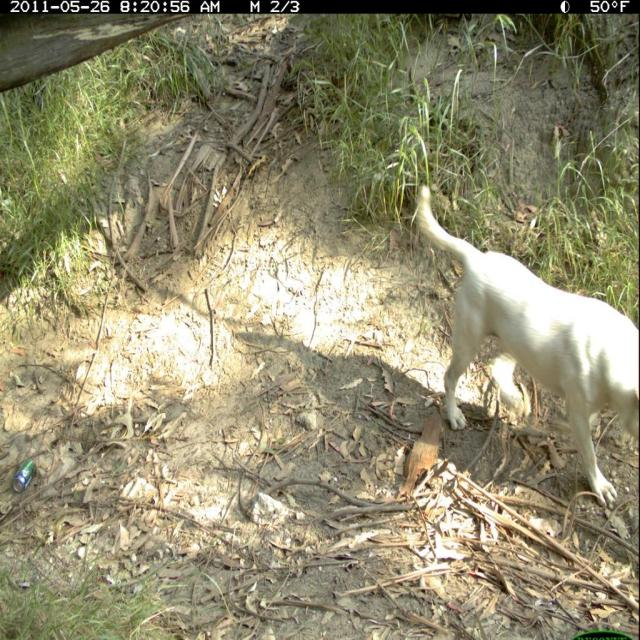dog: (413, 170, 638, 527)
